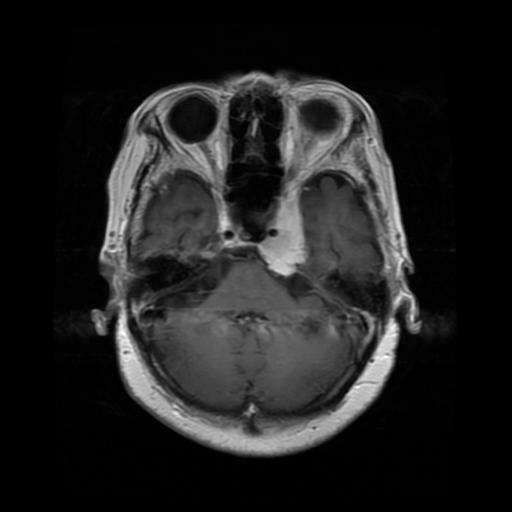Tumour-Pituitary: (255, 201, 310, 283)
